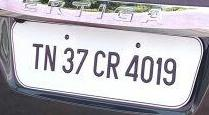0: (139, 54, 154, 83)
1: (153, 55, 162, 84)
3: (60, 46, 74, 72)
4: (124, 53, 138, 80)
7: (74, 46, 88, 74)
9: (162, 56, 176, 86)
C: (92, 49, 105, 77)
N: (42, 43, 57, 71)
R: (104, 50, 119, 78)
T: (31, 42, 43, 69)
